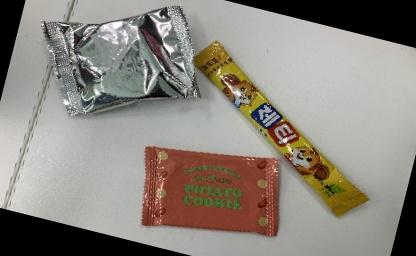br: (19, 0, 223, 150)
jt: (160, 32, 401, 230)
pota: (124, 123, 300, 256)
